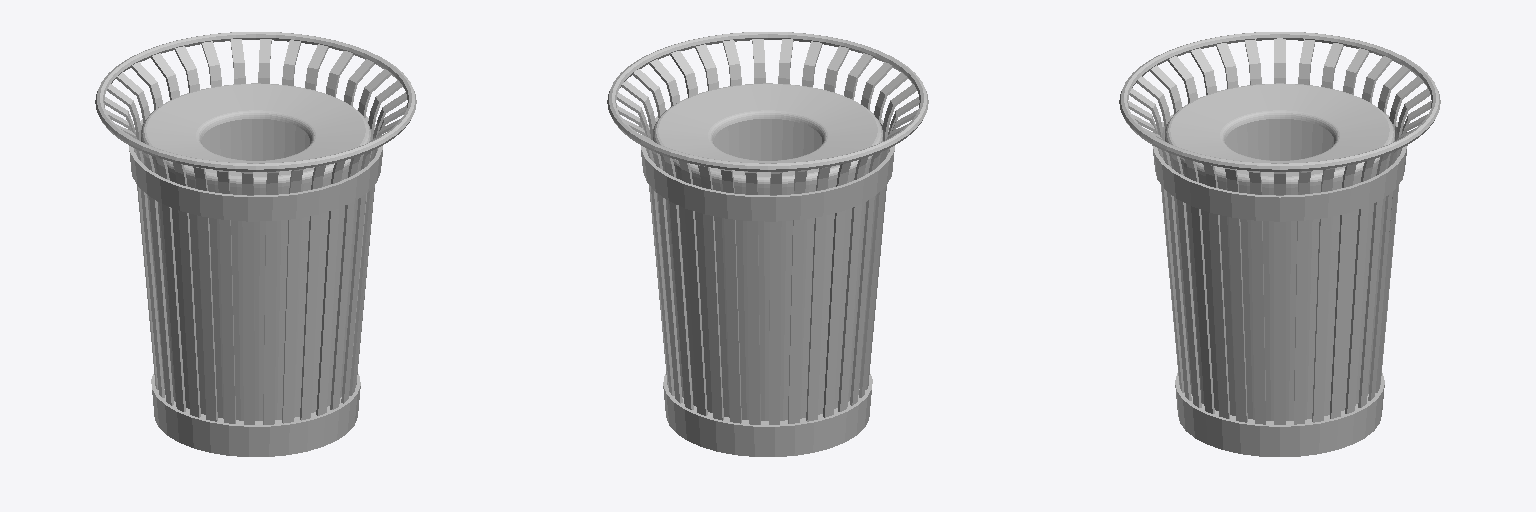
File: trash.obj
3 renders of one model, left to right at view 1: azimuth 30°, elevation 25°; view 2: azimuth 150°, elevation 25°; view 3: azimuth 270°, elevation 25°, orthographic.
Visible parts, largest first — view 1: trash_can_frame_Trash_can_frame_Green_paint, Trash_can_Trash_can_Aluminum, Trash_can_Trash_can_Green_plastic; view 2: trash_can_frame_Trash_can_frame_Green_paint, Trash_can_Trash_can_Aluminum, Trash_can_Trash_can_Green_plastic; view 3: trash_can_frame_Trash_can_frame_Green_paint, Trash_can_Trash_can_Aluminum, Trash_can_Trash_can_Green_plastic.
Boxes of the visible parts, x1,y1,x2,y2 form: trash_can_frame_Trash_can_frame_Green_paint: [95, 32, 416, 456]; Trash_can_Trash_can_Aluminum: [147, 119, 369, 420]; Trash_can_Trash_can_Green_plastic: [141, 83, 370, 194]; trash_can_frame_Trash_can_frame_Green_paint: [607, 32, 928, 456]; Trash_can_Trash_can_Aluminum: [654, 119, 876, 420]; Trash_can_Trash_can_Green_plastic: [653, 83, 882, 194]; trash_can_frame_Trash_can_frame_Green_paint: [1119, 32, 1440, 456]; Trash_can_Trash_can_Aluminum: [1174, 119, 1385, 420]; Trash_can_Trash_can_Green_plastic: [1165, 83, 1394, 194].
Bounding box in the file's own units: 7.9 × 8.58 × 7.9.